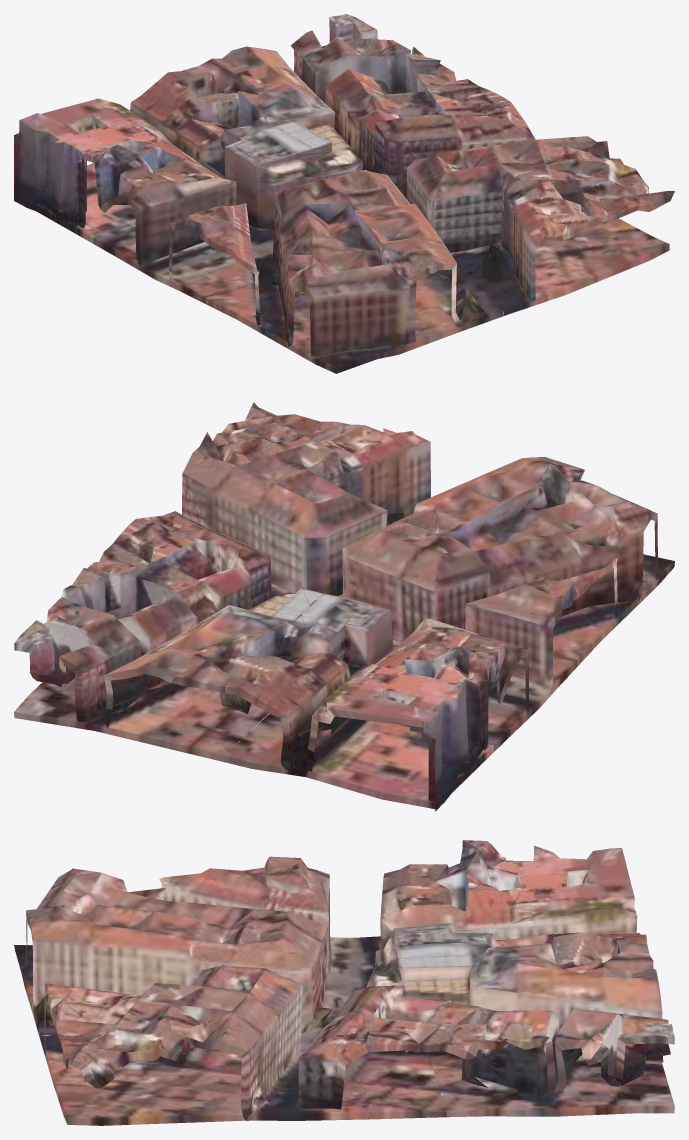
3 views of the same model, one above another, from view 1: azimuth 30°, elevation 25°; view 2: azimuth 150°, elevation 25°; view 3: azimuth 270°, elevation 25° (orthographic). The views are drawn at different scales.
Visible parts, largest first — view 1: Mesh_0; view 2: Mesh_0; view 3: Mesh_0.
Boxes of the visible parts, bbox=[...] form: Mesh_0: bbox=[14, 14, 674, 373]; Mesh_0: bbox=[14, 402, 674, 811]; Mesh_0: bbox=[14, 840, 674, 1125].
Bounding box in the file's own units: 135 × 32.3 × 165.
2 materials, 2 textured.
